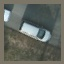car: (17, 19, 52, 44)
